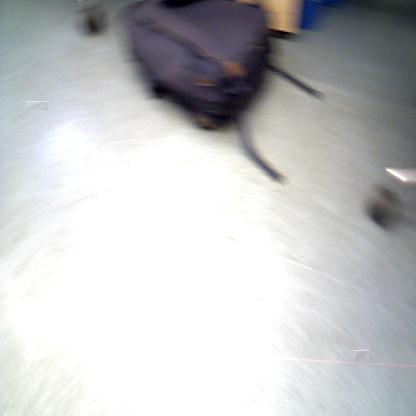mark: (26, 101, 48, 110), (355, 349, 368, 363)
